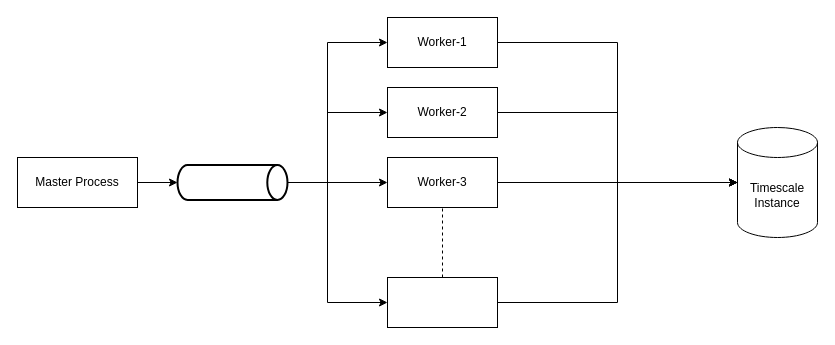
Some shapes in this 835 by 345 pixel diagram are drawn without their labels. Each missing label, with the centre of its shape:
IPC: the point at 232,182
Worker-N: the point at 442,302
